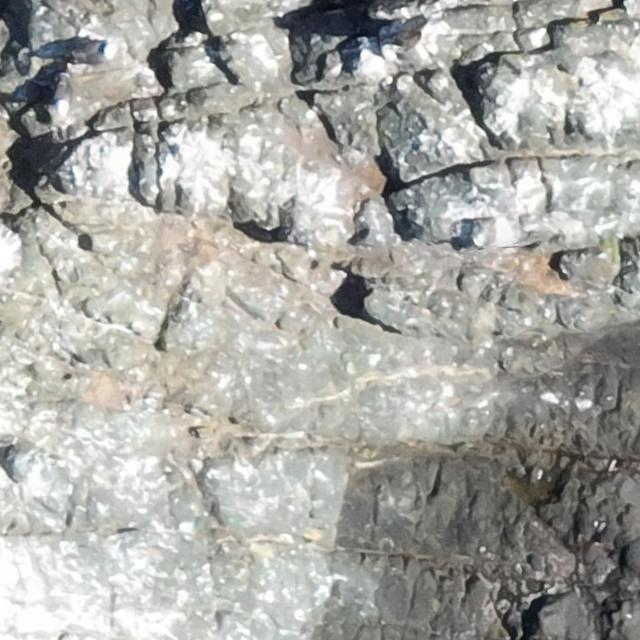umineko: (69, 41, 116, 61), (56, 75, 72, 118)
